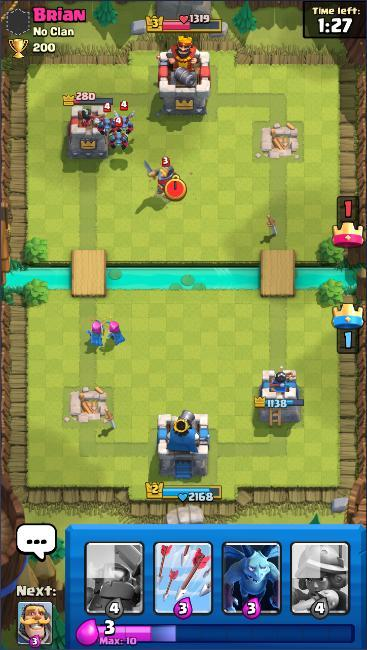ally_archer: (85, 317, 108, 347), (102, 320, 127, 347)
enemy_knight: (140, 155, 182, 199)
enemy_minion: (109, 100, 140, 136), (97, 102, 120, 138), (108, 117, 131, 152)
